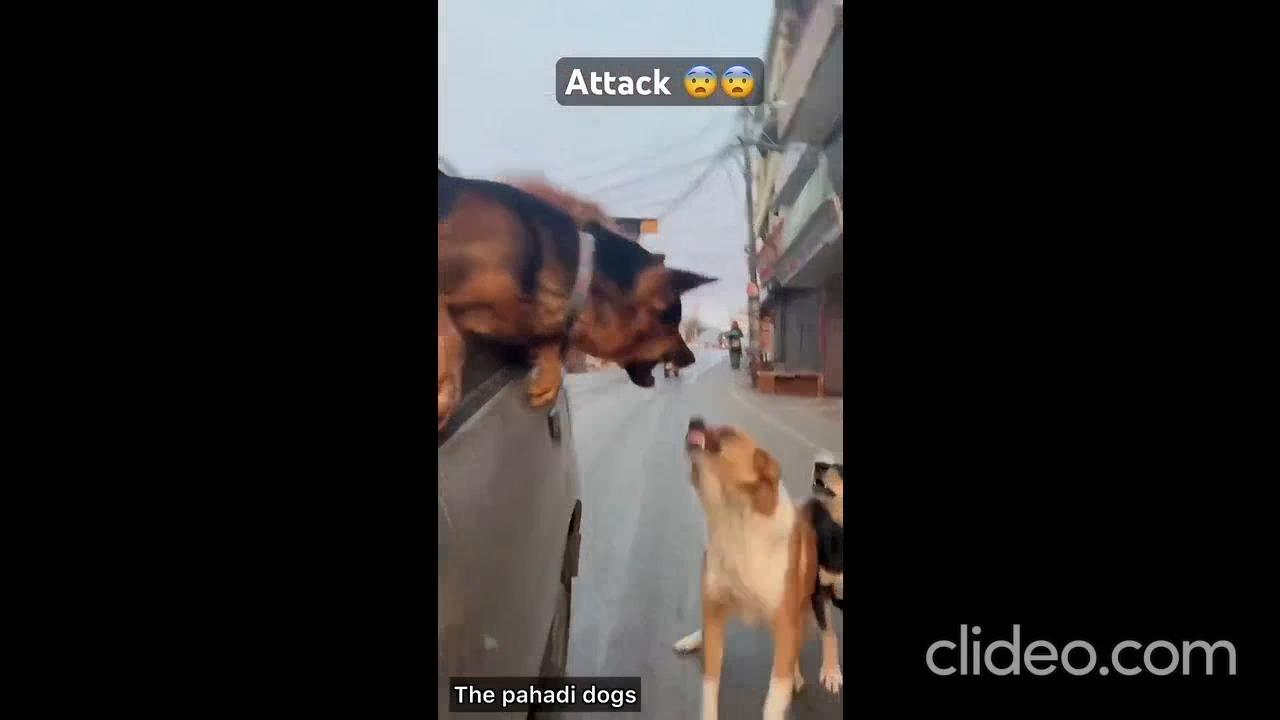dog: (664, 402, 821, 694), (789, 420, 857, 665)
